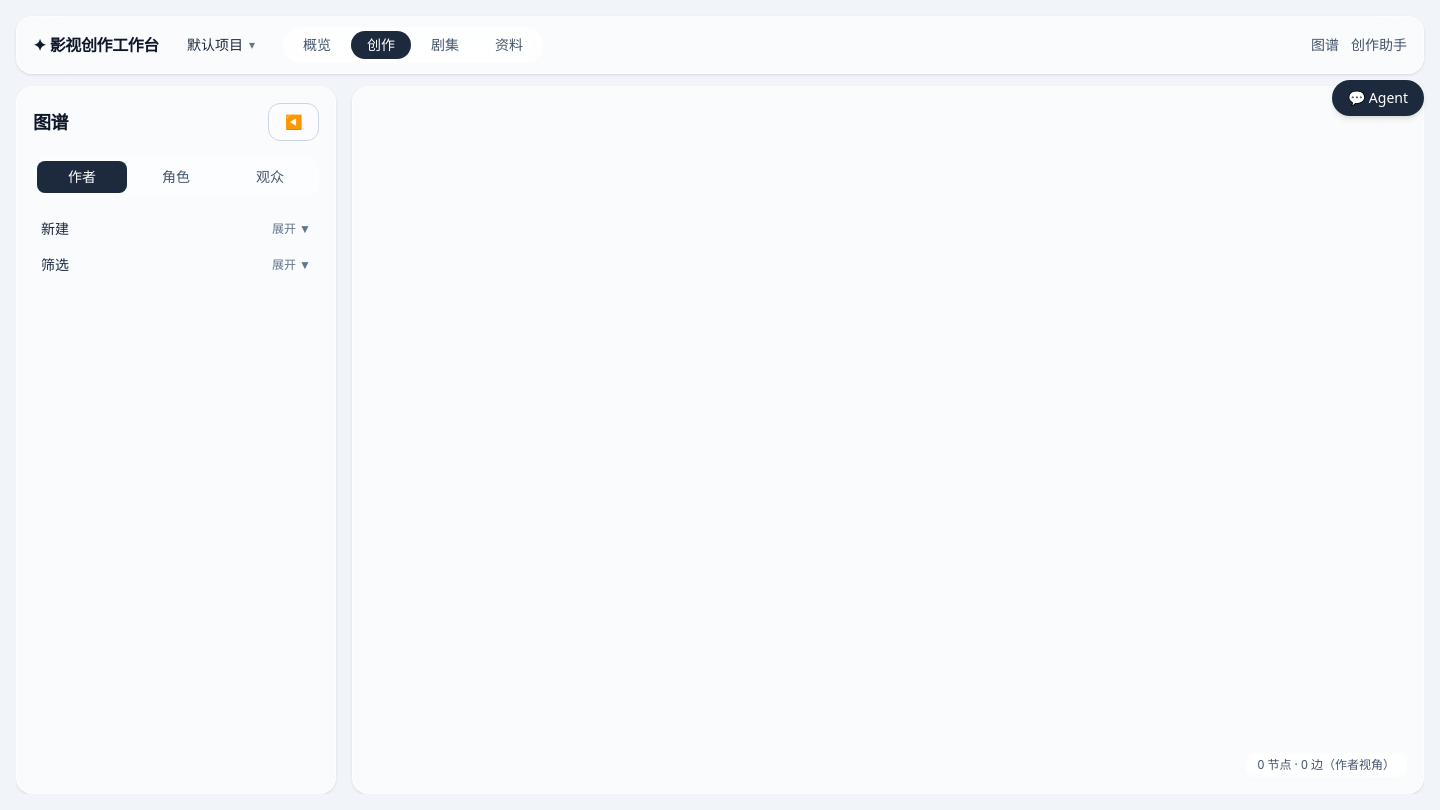
F12 两级钻取（FI3）+ IF1 页签往返 › FI3: 墙卡片聚合计数 → 详情面包屑/卡片墙 → asset-type-back 返回（导航契约）
Click the link with test id "tab-assets" at (509, 44), box [495, 35, 523, 54]
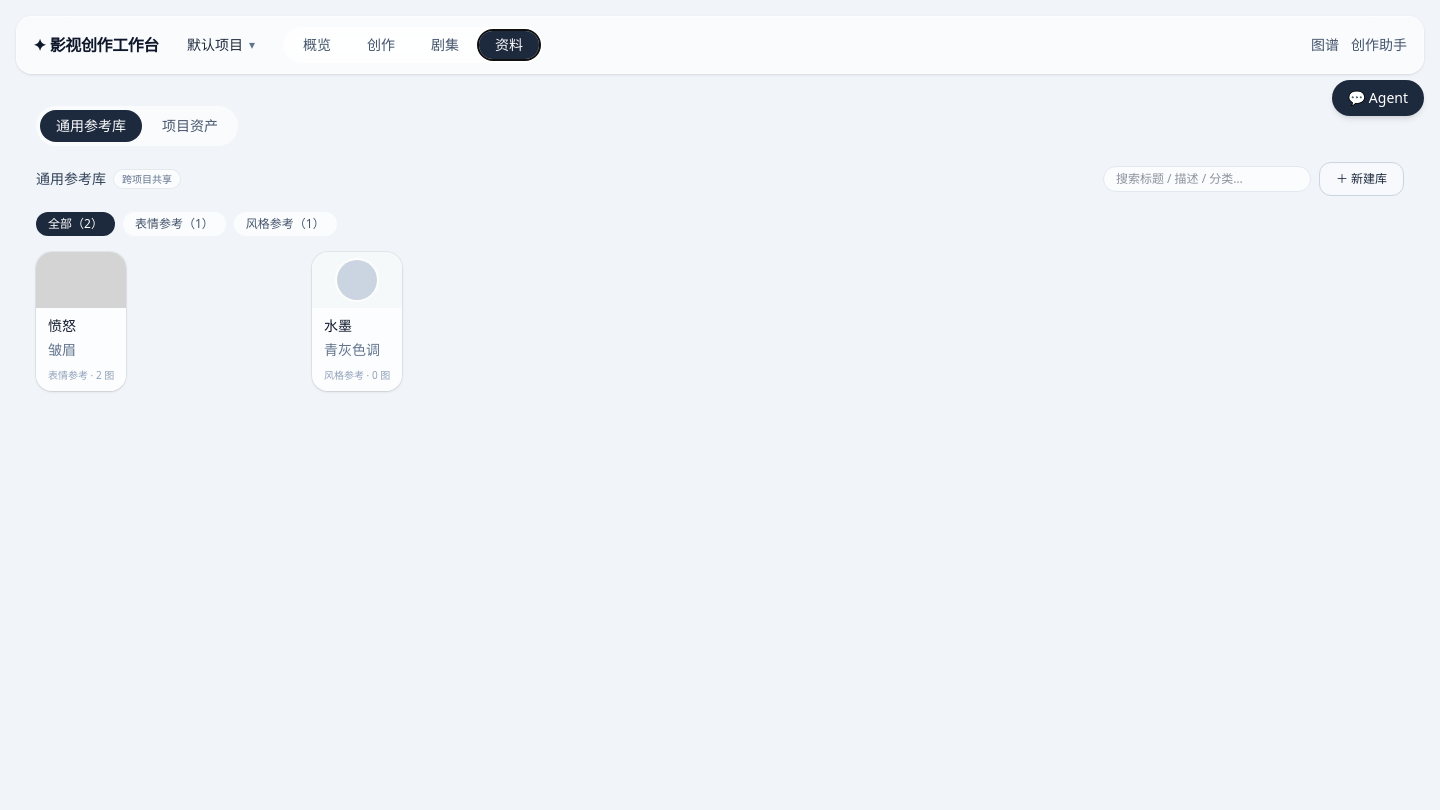
Expected: the link with test id "section-general" is shown, [40, 110, 142, 142]
Click the link with test id "section-project" at (190, 126), box [162, 116, 218, 135]
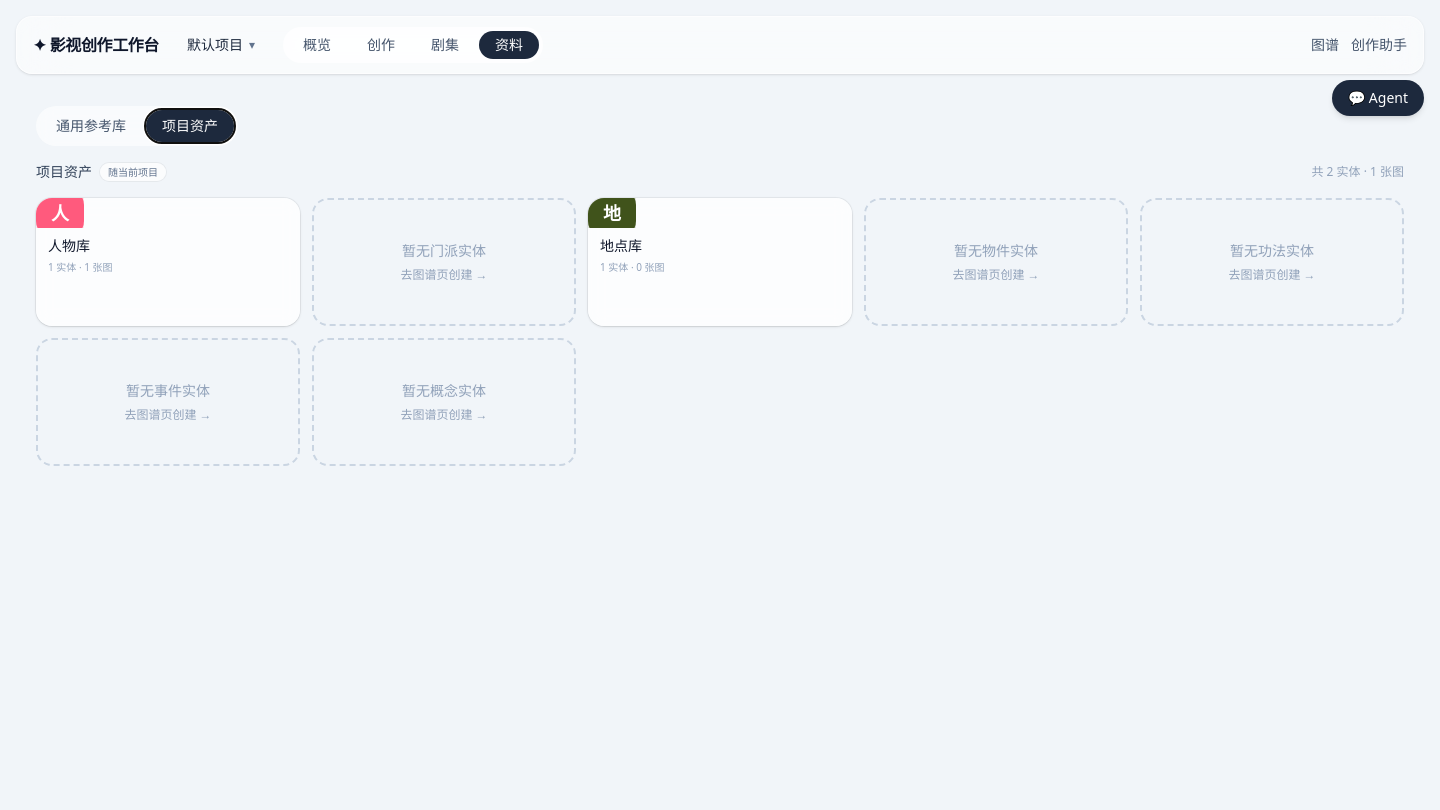
Expected: the button with test id "asset-type-card-character" shows "人物库"
Expected: the button with test id "asset-type-card-character" shows "1 实体"
Expected: the button with test id "asset-type-card-character" shows "1 张图"
Click the button with test id "asset-type-card-character" at (60, 213), box [36, 198, 300, 326]
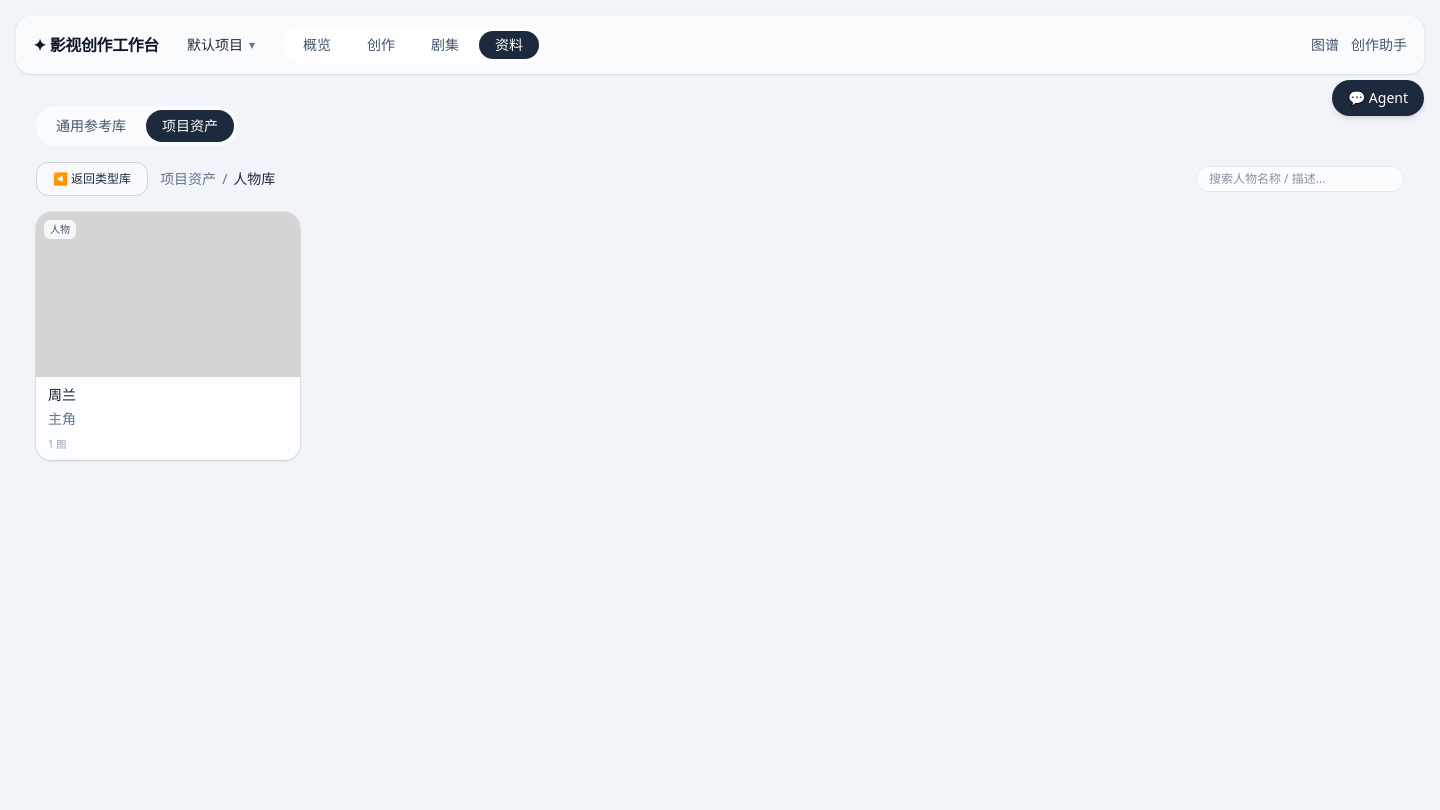
Expected: the button with test id "asset-type-back" is shown
Click the button with test id "asset-type-back" at (92, 179), box [36, 162, 148, 196]
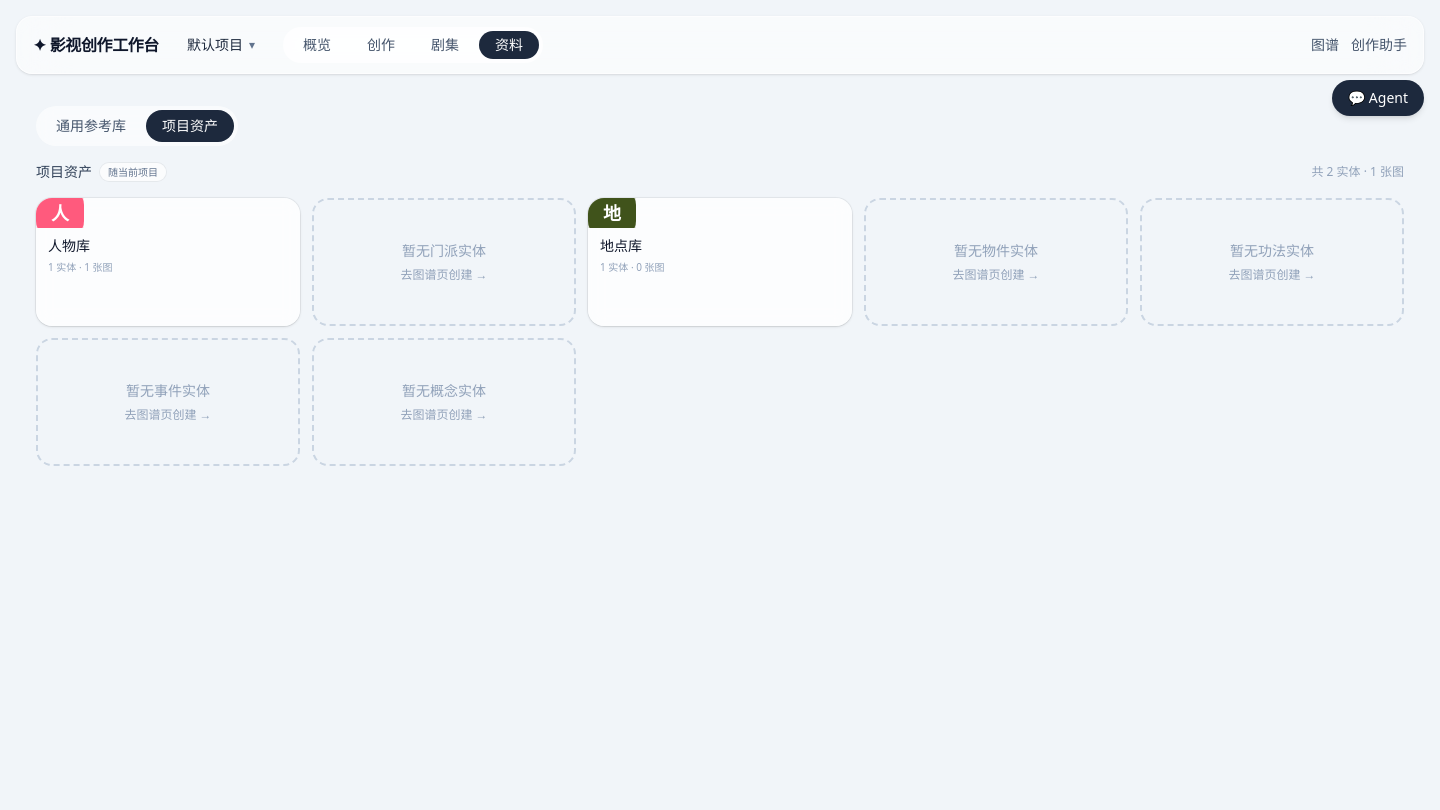
Expected: the element with test id "asset-type-wall" is shown, [36, 162, 1404, 466]
